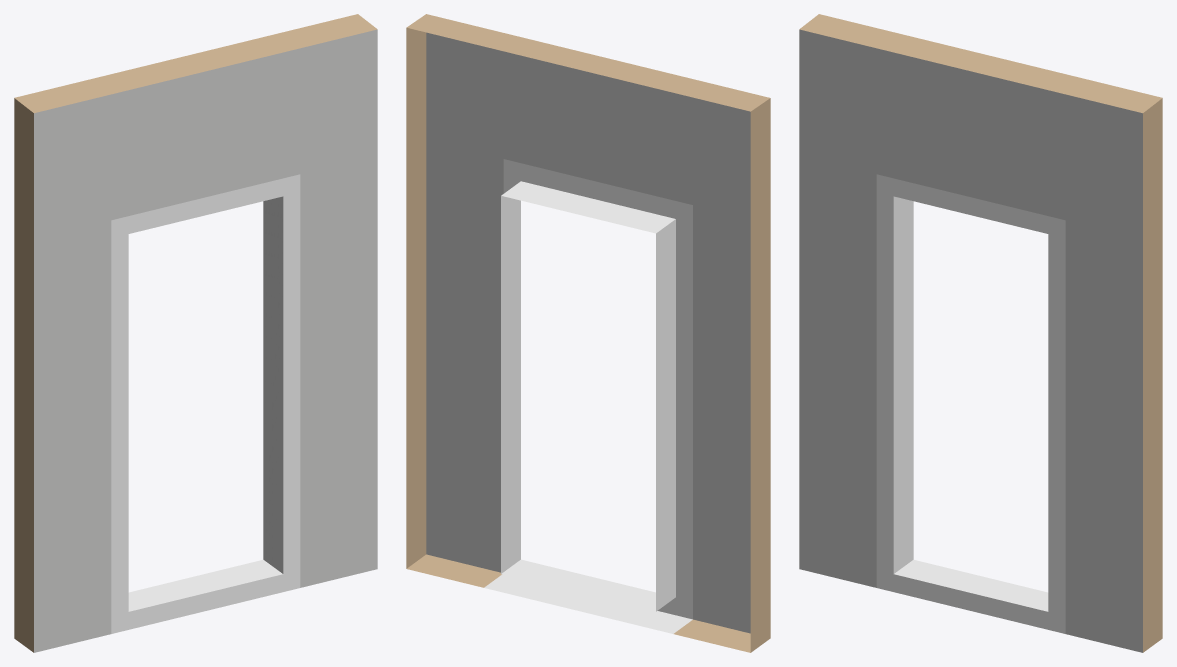
Rendered from buildings_house-wall-door-2x3m.fbx.
3 renders of one model, left to right at view 1: azimuth 30°, elevation 25°; view 2: azimuth 150°, elevation 25°; view 3: azimuth 330°, elevation 25°, orthographic.
Visible parts, largest first — view 1: buildings_house_wall_door_2x3m; view 2: buildings_house_wall_door_2x3m; view 3: buildings_house_wall_door_2x3m.
Part boxes in pixels (left/top/right/bottom): buildings_house_wall_door_2x3m: left=14, top=14, right=377, bottom=652; buildings_house_wall_door_2x3m: left=406, top=14, right=770, bottom=652; buildings_house_wall_door_2x3m: left=799, top=14, right=1162, bottom=652.
Size of the model in its own units: 133 by 200 by 13.31.
